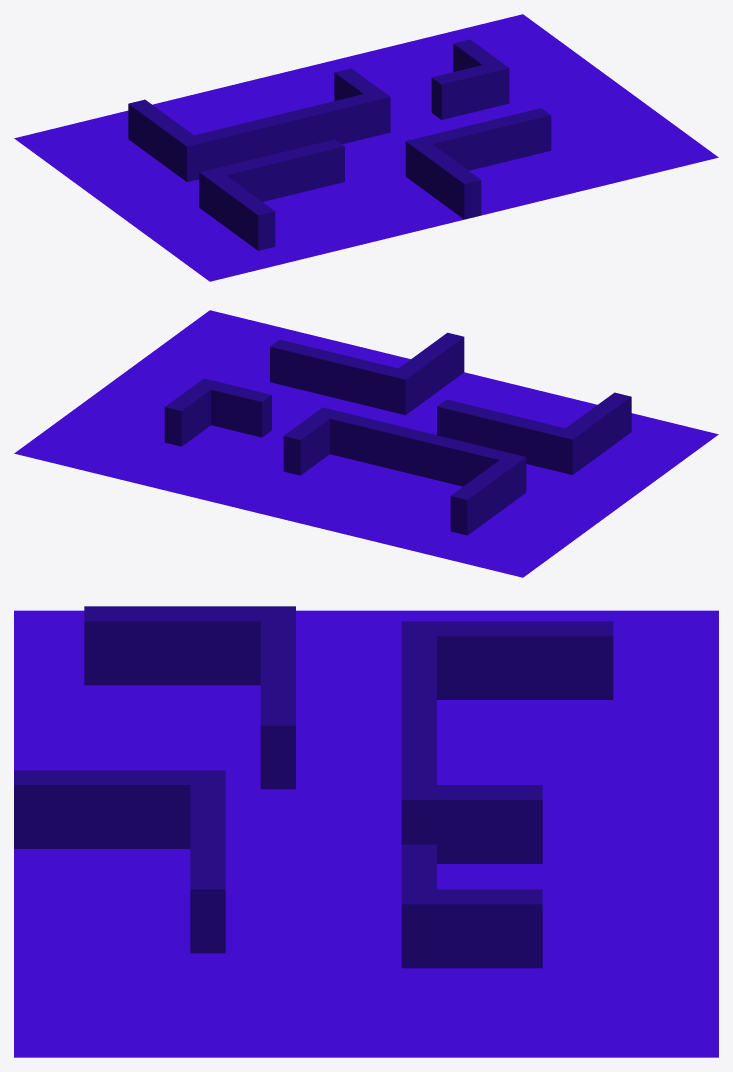
File: level.glb
The picture shows the model from 3 angles, top to bottom: view 1: azimuth 30°, elevation 25°; view 2: azimuth 150°, elevation 25°; view 3: azimuth 270°, elevation 25°; orthographic projection. The views are drawn at different scales.
Parts seen in each view (by area): view 1: Floor, Wall_1x2.011, Wall_1x2.024, Wall_1x2.012, Wall_1x2.004; view 2: Floor, Wall_1x2.011, Wall_1x2.024, Wall_1x2.012, Wall_1x2.004; view 3: Floor, Wall_1x2.011, Wall_1x2.012, Wall_1x2.024, Wall_1x2.004.
Boxes of the visible parts, x1,y1,x2,y2 form: Floor: (14,14,718,281); Wall_1x2.011: (128,68,390,181); Wall_1x2.024: (405,108,551,219); Wall_1x2.012: (199,139,344,250); Wall_1x2.004: (431,39,509,119); Floor: (14,310,718,577); Wall_1x2.011: (283,407,526,535); Wall_1x2.024: (270,332,464,415); Wall_1x2.012: (437,392,631,474); Wall_1x2.004: (164,378,271,446); Floor: (14,610,718,1057); Wall_1x2.011: (401,621,613,863); Wall_1x2.012: (84,606,295,789); Wall_1x2.024: (14,770,225,953); Wall_1x2.004: (401,844,542,968).
Size of the model in its own units: 30 by 2 by 20.
